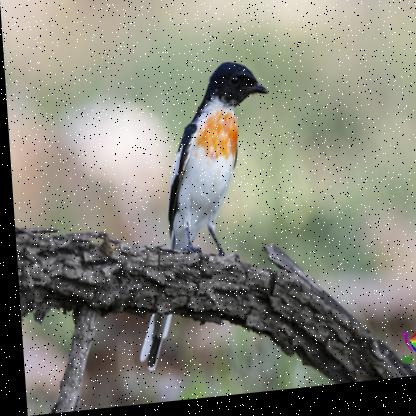Burung: (119, 64, 279, 374)
